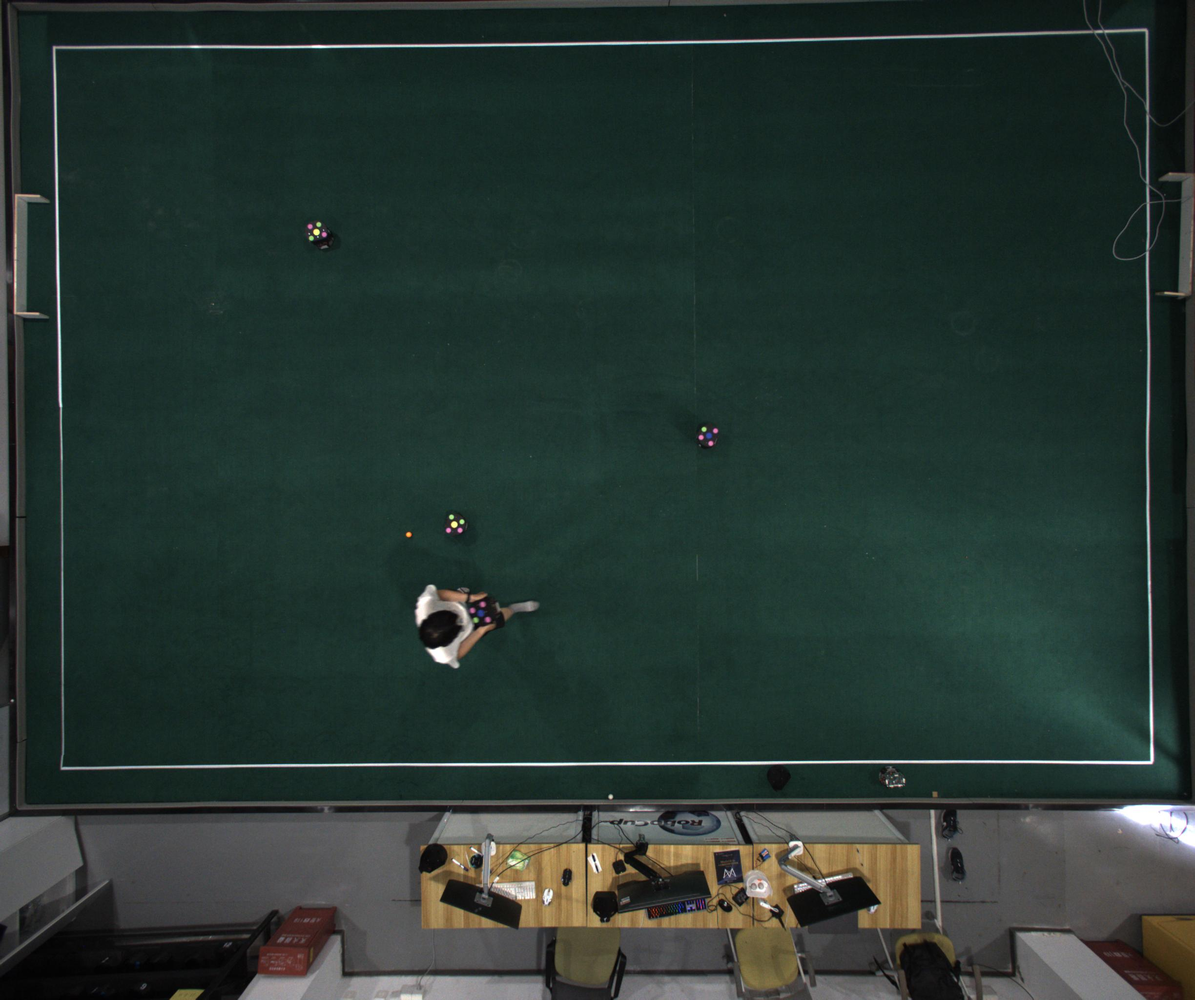ball: (405, 531, 412, 538)
blue_bot: (469, 600, 495, 625), (698, 425, 719, 447)
yellow_bot: (305, 221, 329, 242), (445, 513, 466, 535)
